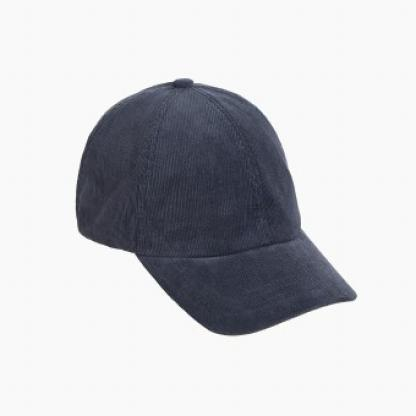cap: (60, 70, 370, 344)
